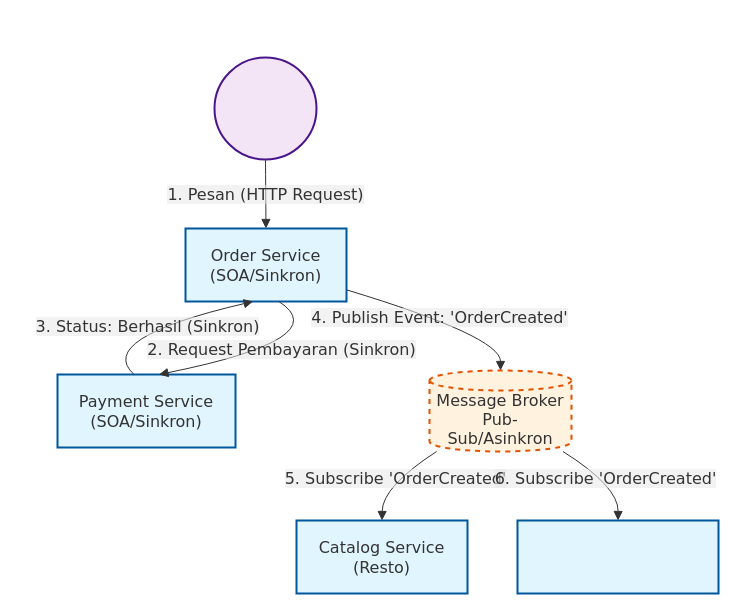
The diagram is 736 pixels wide and 611 high, and some of its shapes have lost their labels. The shapes that lost their labels are listed below. From the top down, each one's centre as x and y in pixels, then its label:
(x=265, y=108): Pelanggan
(x=617, y=556): Notification Service (Kurir)
